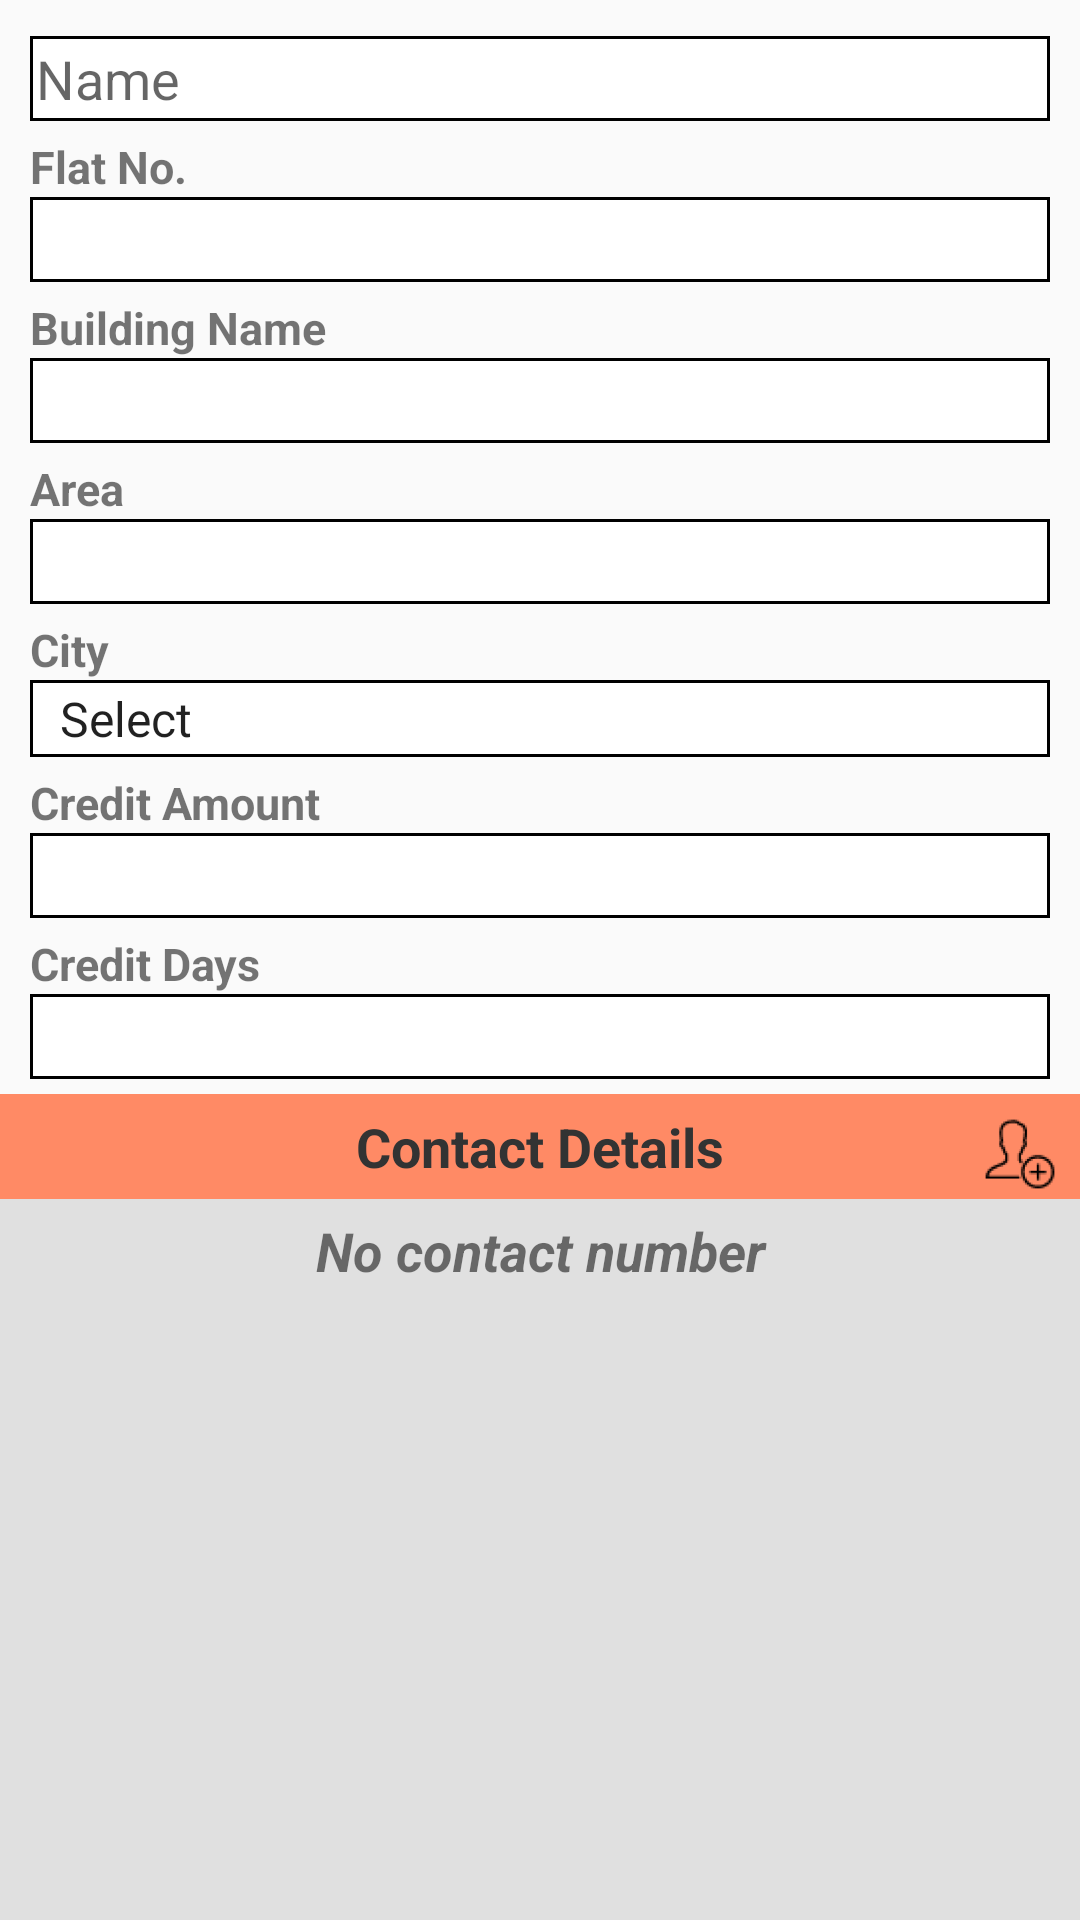

Locate icon controls on the screen. Image size 1080px×1920px, boxes as {"left": x1, "top": y1, "right": x2, "bottom": y2}.
add: {"left": 985, "top": 1119, "right": 1055, "bottom": 1189}
